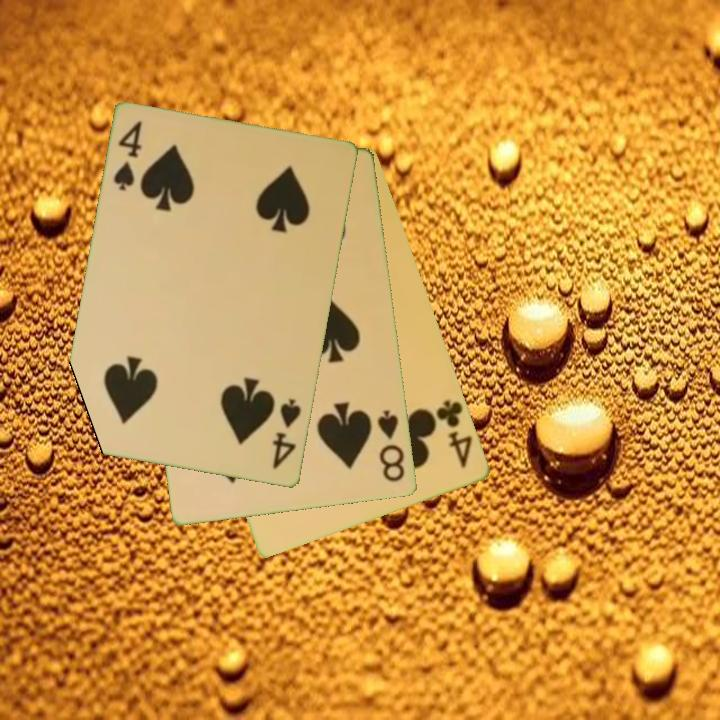4c: (433, 397, 476, 471)
4s: (269, 395, 304, 472), (110, 117, 145, 194)
8s: (374, 406, 408, 486)
